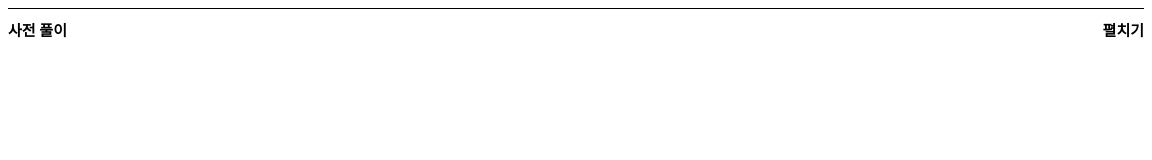
it: DictTabs › shows a quiet empty state with only the Naver shortcut when there is no entry
The width and height of the screenshot is (1152, 160).
Click the button "사전 풀이 펼치기" at {"x": 37, "y": 31}, box [8,9,1144,53]
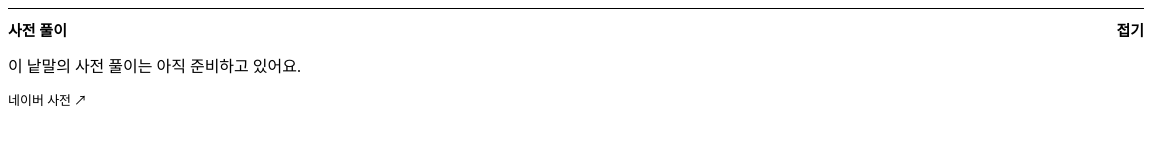
Now the button "사전 풀이 접기" is expanded, box [8,9,1144,53]
Now the text "이 낱말의 사전 풀이는 아직 준비하고 있어요." is shown, box [8,58,301,75]
